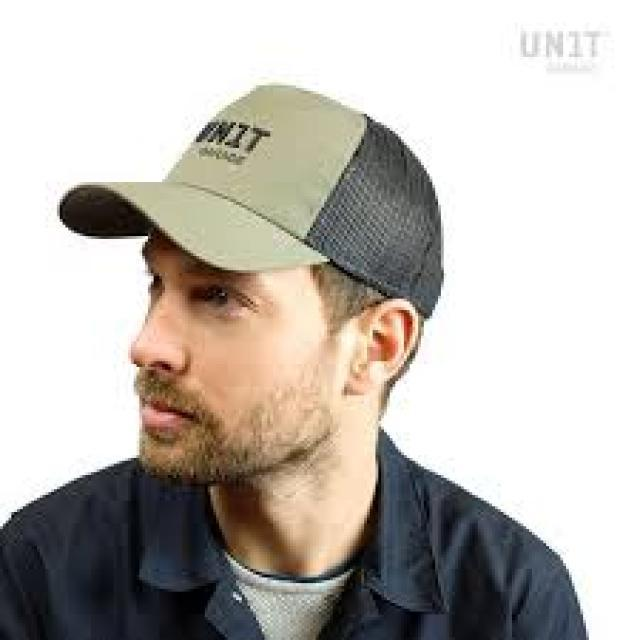cap: (35, 54, 473, 352)
